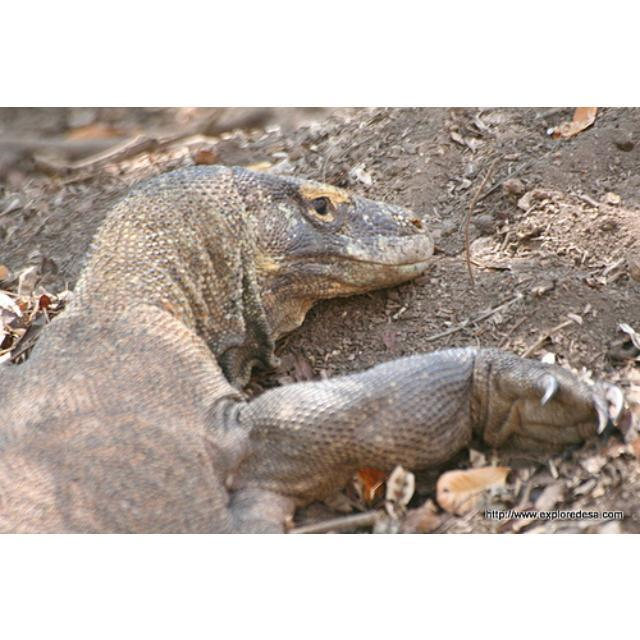KomodoDragon: (1, 160, 623, 531)
